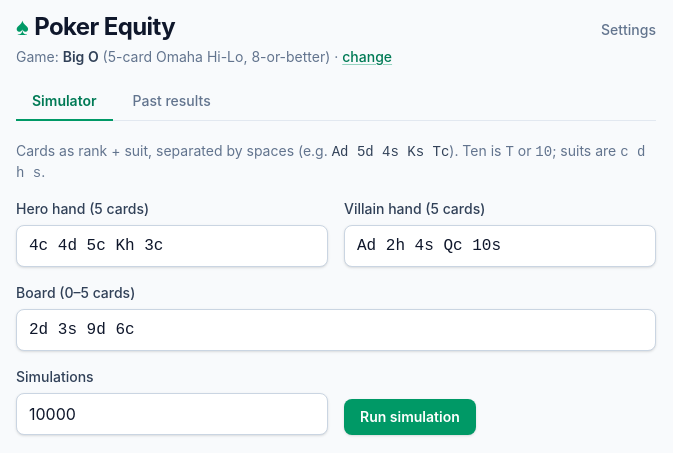
Test case: the past results tab shows an empty state
Click the tab "Past results" at (172, 102), box [116,83,227,121]
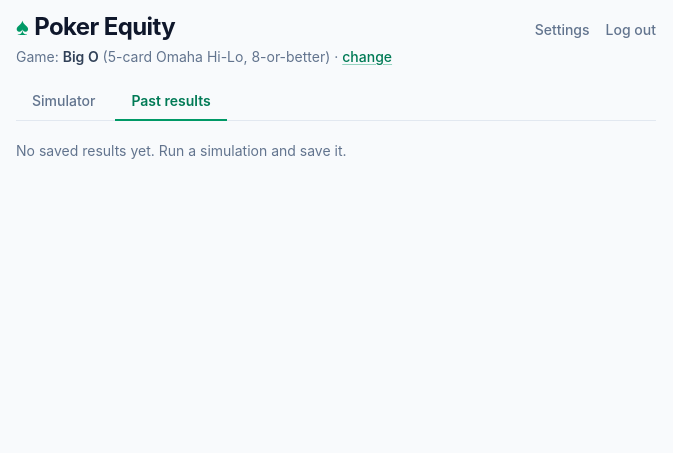
Now the text "No saved results yet. Run a simulation and save it." is shown, box [16,142,347,159]
